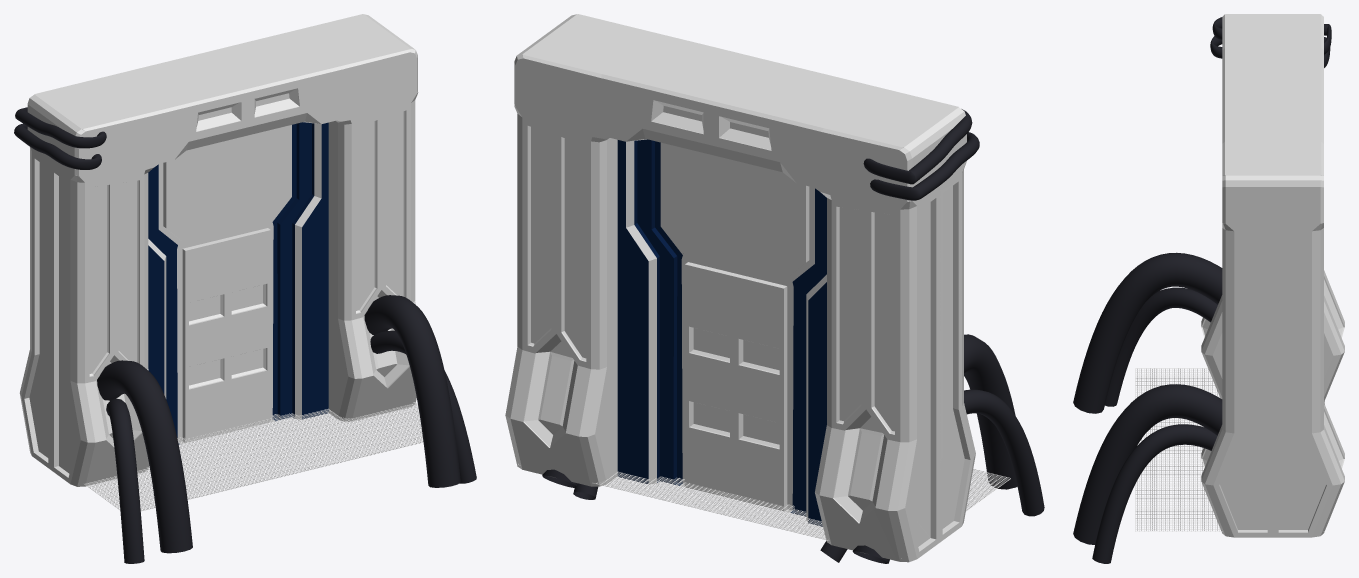
File: sliding_door.fbx
3 views of the same model, side by side, from view 1: azimuth 30°, elevation 25°; view 2: azimuth 150°, elevation 25°; view 3: azimuth 270°, elevation 25° (orthographic). The views are drawn at different scales.
Visible parts, largest first — view 1: Cube.001, Plane.002, Plane, Plane.003, NurbsPath.002, NurbsPath, NurbsPath.003, NurbsPath.001, NurbsPath.004, NurbsPath.005; view 2: Cube.001, Plane.002, Plane, Plane.003, NurbsPath.002, NurbsPath.003, NurbsPath.005, NurbsPath.004; view 3: Cube.001, NurbsPath.002, NurbsPath, Plane.003, NurbsPath.001, NurbsPath.003, NurbsPath.004.
Part boxes in pixels (x1,y1,x2,y2): Cube.001: (19,14,418,486); Plane.002: (158,125,291,443); Plane: (148,122,328,444); Plane.003: (84,402,423,511); NurbsPath.002: (97,360,192,553); NurbsPath: (364,295,460,487); NurbsPath.003: (106,398,144,563); NurbsPath.001: (370,330,476,483); NurbsPath.004: (15,107,106,148); NurbsPath.005: (14,123,101,169); Cube.001: (505,14,975,562); Plane.002: (660,142,814,512); Plane: (617,139,826,526); Plane.003: (518,464,1010,558); NurbsPath.002: (852,334,1017,563); NurbsPath.003: (820,389,1044,562); NurbsPath.005: (870,132,979,200); NurbsPath.004: (863,109,972,184); Cube.001: (1201,14,1344,537); NurbsPath.002: (1073,252,1222,413); NurbsPath: (1073,384,1222,544); Plane.003: (1135,368,1324,531); NurbsPath.001: (1092,424,1217,563); NurbsPath.003: (1105,287,1217,406); NurbsPath.004: (1212,17,1331,54).
Size of the model in its own units: 367 by 384 by 241.
